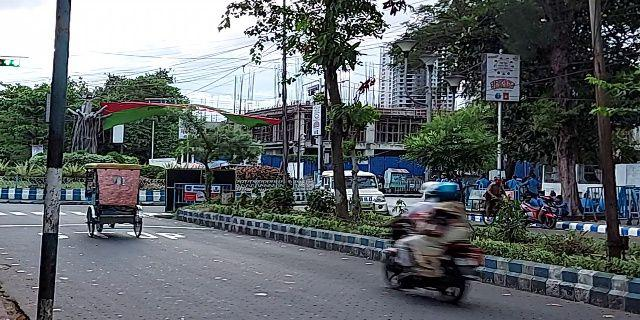Motorbike: (383, 182, 481, 309)
Rickshaw: (82, 161, 146, 246)
